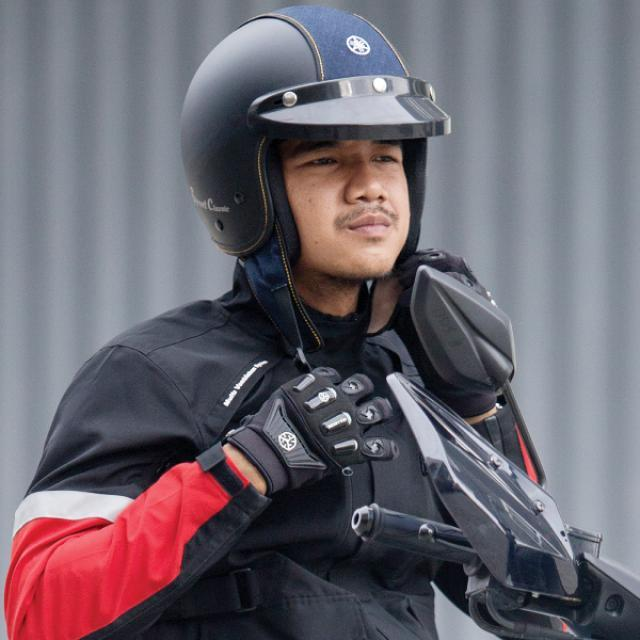Helm: (178, 4, 456, 302)
